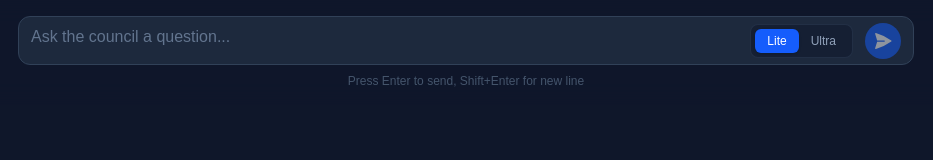
Test case: Council Page - Empty State › 시나리오 2: 새 세션 생성 → 입력창 표시 › 전송 버튼이 텍스트 입력 시에만 활성화된다
The image size is (933, 160).
Expected: the 3rd button is disabled, [865,22,901,58]
# 텍스트 입력 후: 활성화
In the text box with placeholder "Ask the council a question...": x=385, y=37 [31,25,738,49], type "Test message"
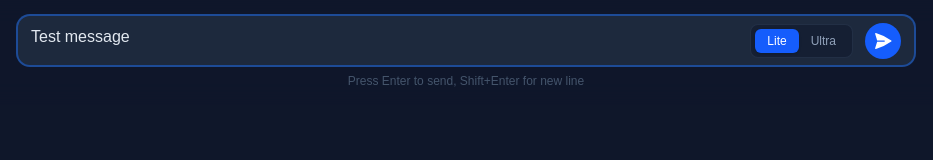
Now the 3rd button is enabled, box [865,22,901,58]
# 텍스트 삭제 후: 다시 비활성화
Clear the text box with placeholder "Ask the council a question...": x=385, y=37 [31,25,738,49]
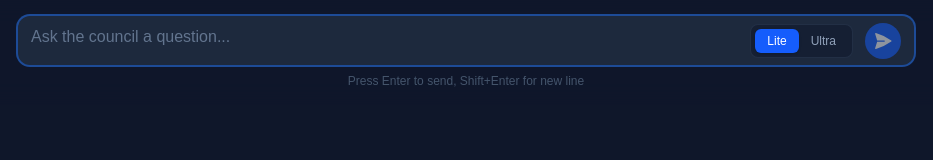
Now the 3rd button is disabled, box [865,22,901,58]
